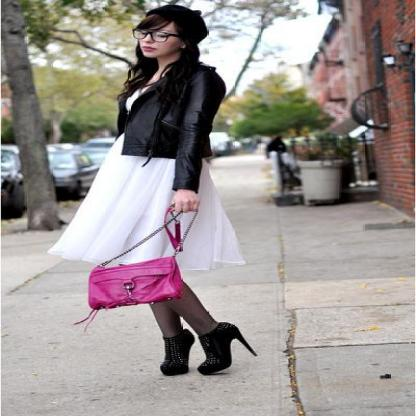bag: (88, 252, 183, 310)
dress: (48, 75, 244, 269)
jacket: (112, 61, 222, 190)
shoe: (138, 324, 256, 371)
